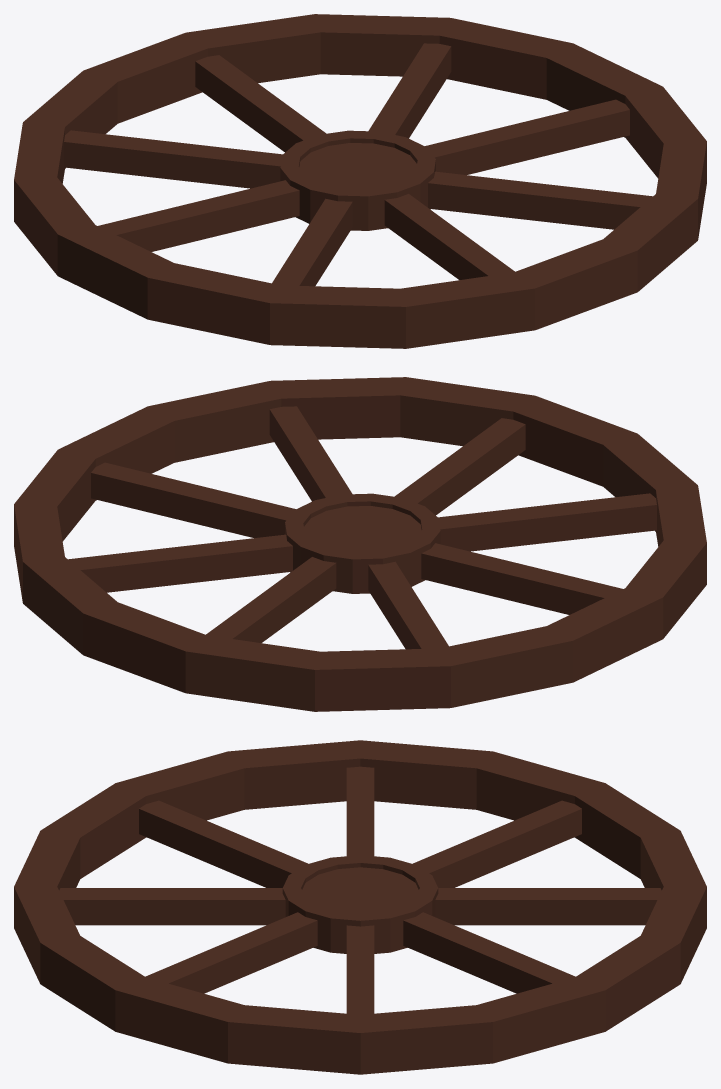
File: Wheel.fbx
3 renders of one model, top to bottom at view 1: azimuth 30°, elevation 25°; view 2: azimuth 150°, elevation 25°; view 3: azimuth 270°, elevation 25°, orthographic.
Parts seen in each view (by area): view 1: Wheel; view 2: Wheel; view 3: Wheel.
Boxes of the visible parts, <box> form: Wheel: <box>14,14,706,348</box>; Wheel: <box>14,377,706,711</box>; Wheel: <box>14,740,706,1074</box>.
Bounding box in the file's own units: 920 × 60.93 × 920.
